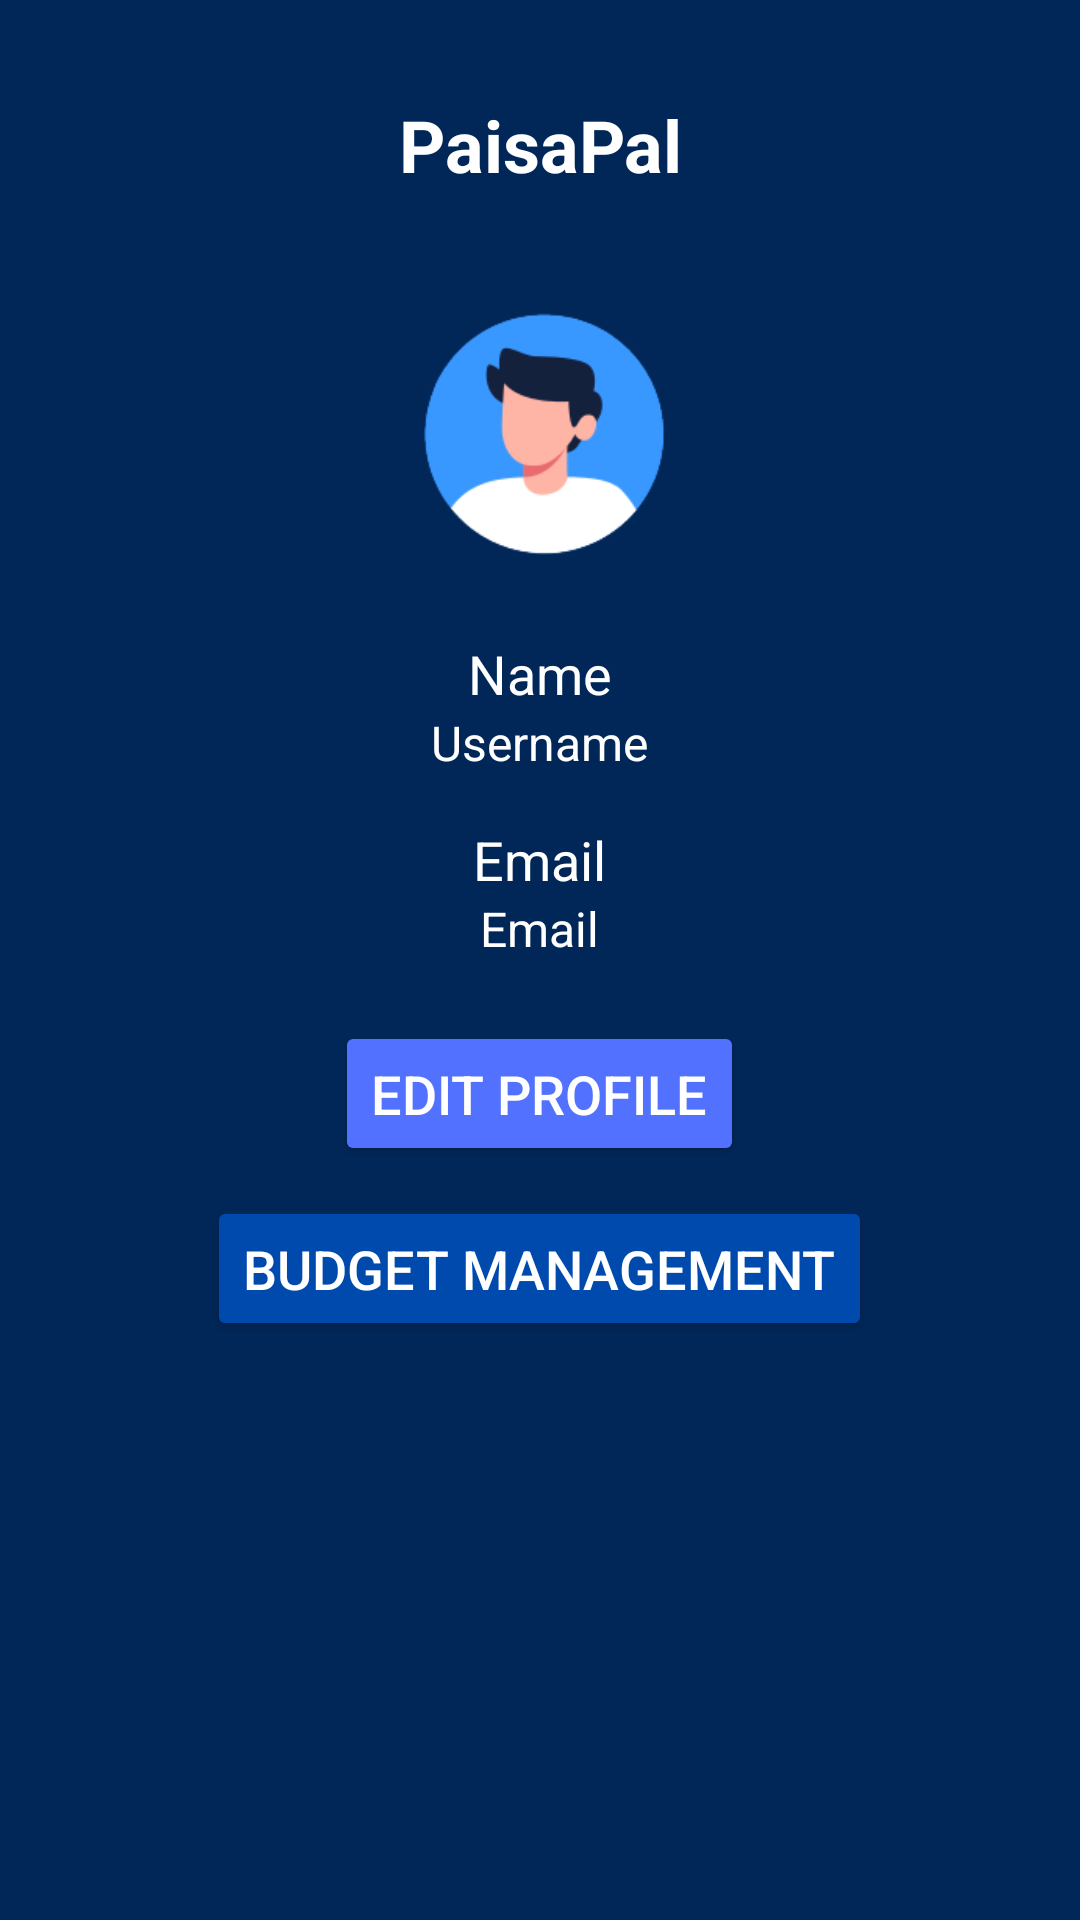

Icon bounding boxes for this 1080 x 1920 phone screenshot, format box=[x1, y1, x2, y2]:
Profile Picture: box=[424, 314, 664, 554]
